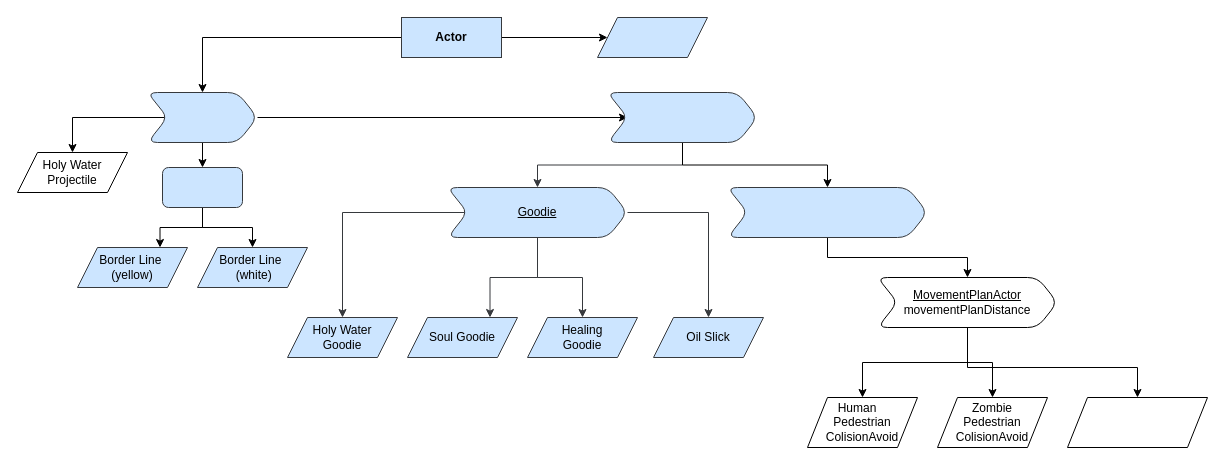
Image size: 1225x465. Some labels were removed from this diagram. The shapes that lost their labels are listed below. From the top down, each one's box as (x1, y1, x2, y2) in pixels, then its label:
(596, 16, 708, 58): Ghost Racer
(146, 92, 258, 142): MovingActor m_vSpeed m_hSpeed
(606, 92, 758, 142): CollidesWithPlayer
(162, 166, 242, 208): BorderLine Color
(726, 186, 928, 238): HealthActor setHealth (inc. death check) getHealth
(1066, 396, 1208, 448): Zombie Cab hasDamagedPlayer
